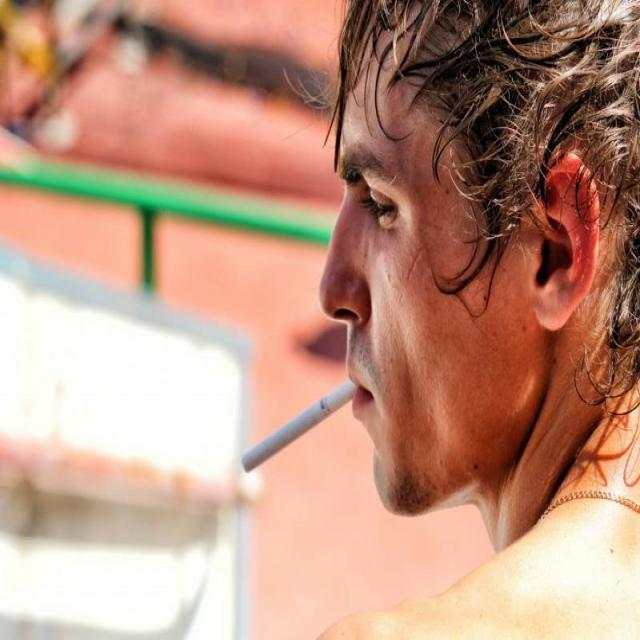smoking: (241, 383, 359, 474)
